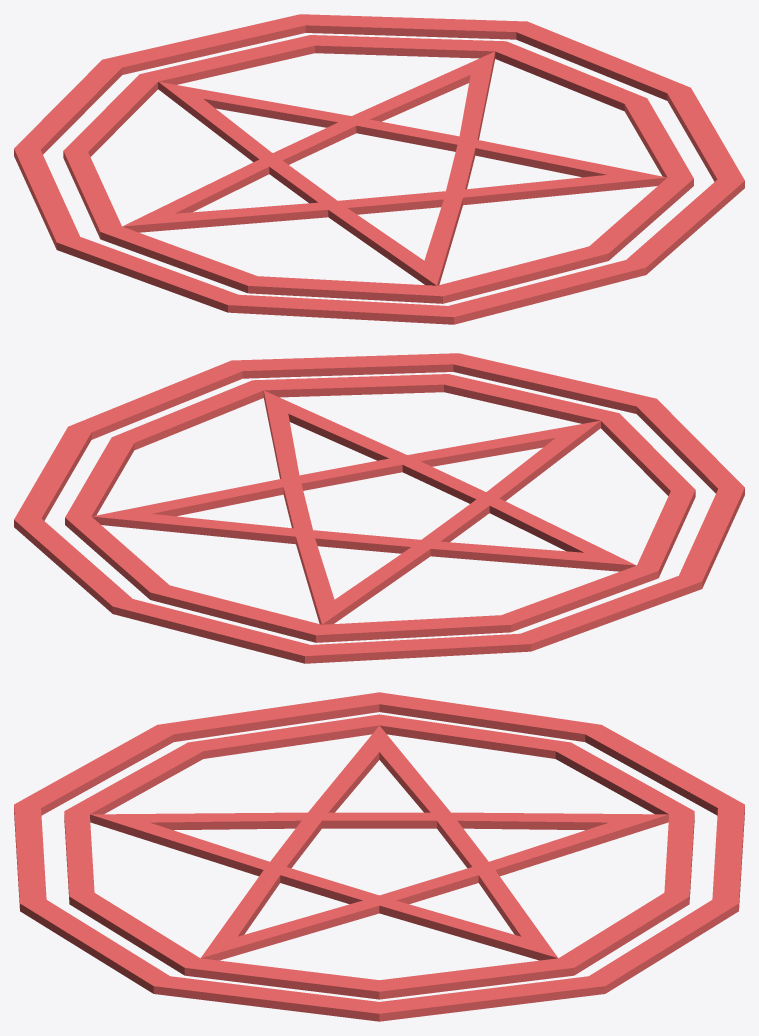
File: mahoujin.fbx
3 views of the same model, one above another, from view 1: azimuth 30°, elevation 25°; view 2: azimuth 150°, elevation 25°; view 3: azimuth 270°, elevation 25° (orthographic). The views are drawn at different scales.
Visible parts, largest first — view 1: mahoujin2; view 2: mahoujin2; view 3: mahoujin2.
Part boxes in pixels (x1,y1,x2,y2): mahoujin2: (14, 14, 744, 324); mahoujin2: (14, 353, 744, 663); mahoujin2: (14, 692, 744, 1021).
Bounding box in the file's own units: 1.08 × 0.0124 × 1.04.
